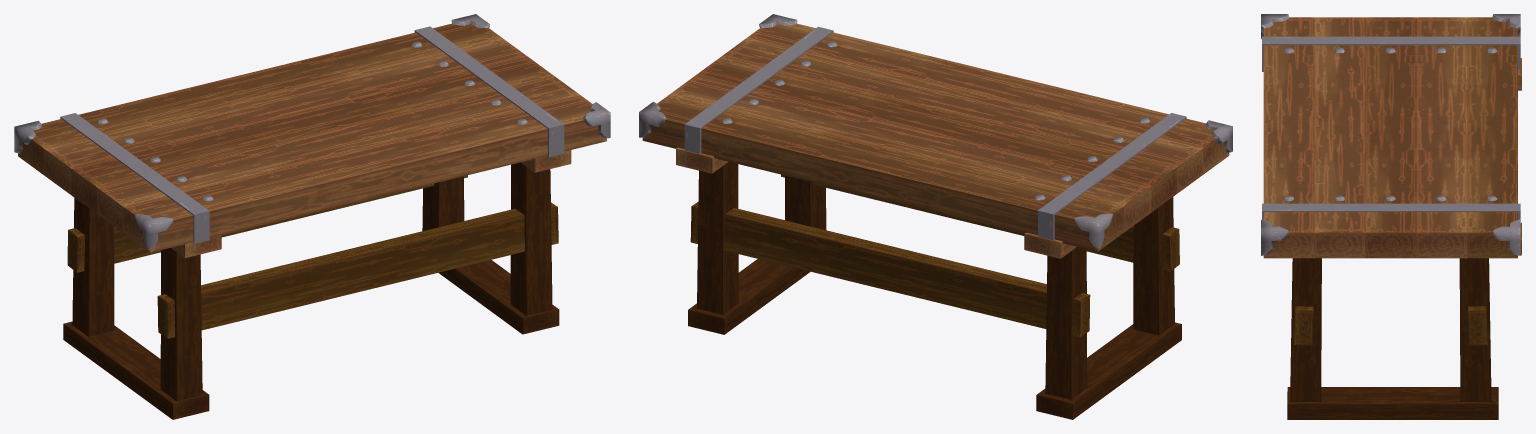
Rendered from workbench.glb.
3 views of the same model, side by side, from view 1: azimuth 30°, elevation 25°; view 2: azimuth 150°, elevation 25°; view 3: azimuth 270°, elevation 25° (orthographic). The views are drawn at different scales.
Visible parts, largest first — view 1: Workbench; view 2: Workbench; view 3: Workbench.
Part boxes in pixels (x1=…): Workbench: x1=14, y1=14, x2=610, y2=419; Workbench: x1=639, y1=14, x2=1232, y2=419; Workbench: x1=1261, y1=14, x2=1521, y2=419.
Size of the model in its own units: 2.02 by 0.8946 by 1.02.
Materials: 2 (2 with a texture image).
